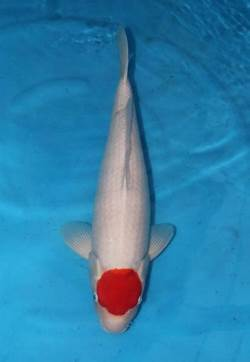sun: (60, 23, 179, 336)
